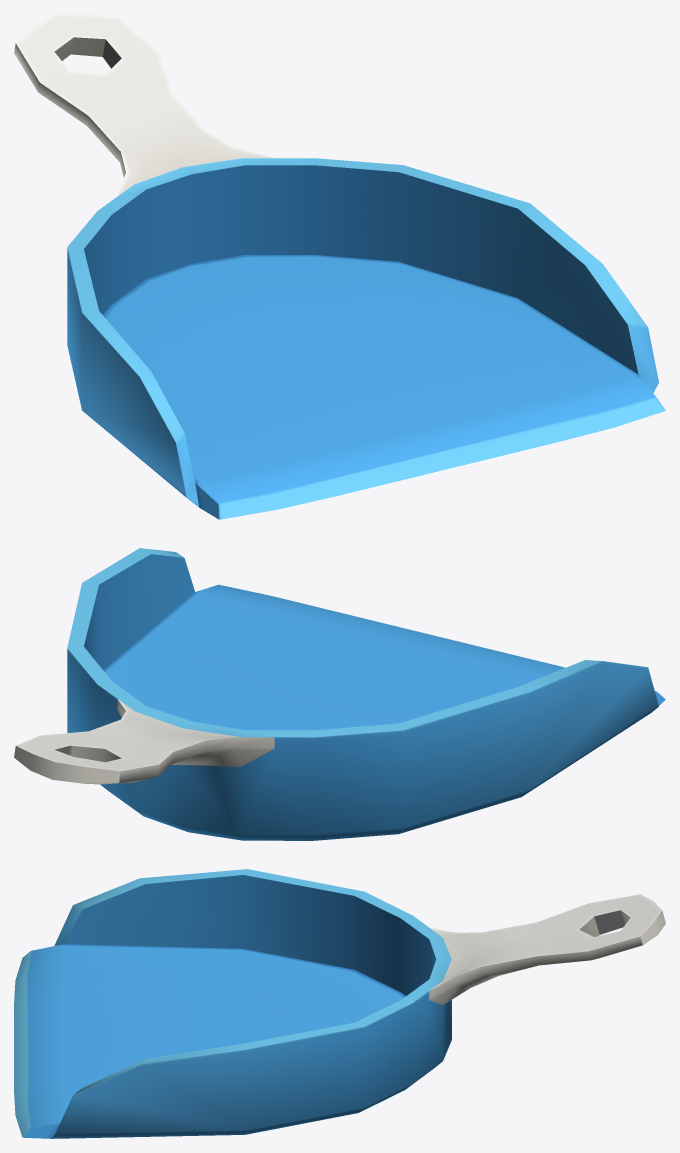
Rendered from cleaners_scoop_1.fbx.
3 views of the same model, one above another, from view 1: azimuth 30°, elevation 25°; view 2: azimuth 150°, elevation 25°; view 3: azimuth 270°, elevation 25° (orthographic). The views are drawn at different scales.
Parts seen in each view (by area): view 1: cleaners_scoop_1; view 2: cleaners_scoop_1; view 3: cleaners_scoop_1.
Part boxes in pixels (x1,y1,x2,y2): cleaners_scoop_1: [14, 14, 665, 519]; cleaners_scoop_1: [14, 548, 665, 840]; cleaners_scoop_1: [14, 869, 665, 1138].
Size of the model in its own units: 16.24 by 5.52 by 23.53.
